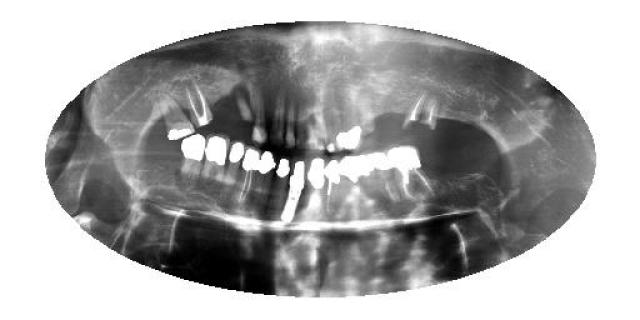Cavity: (401, 94, 439, 134), (234, 86, 255, 130)
Fillings: (364, 152, 401, 204), (161, 98, 195, 142), (202, 136, 230, 189), (180, 132, 206, 188), (222, 139, 246, 195), (336, 105, 362, 151), (255, 152, 276, 208), (271, 158, 291, 214), (340, 152, 364, 188), (307, 158, 325, 196)
Implant: (388, 145, 438, 201), (282, 158, 308, 224), (186, 80, 214, 128), (239, 145, 261, 204), (324, 156, 340, 215)
